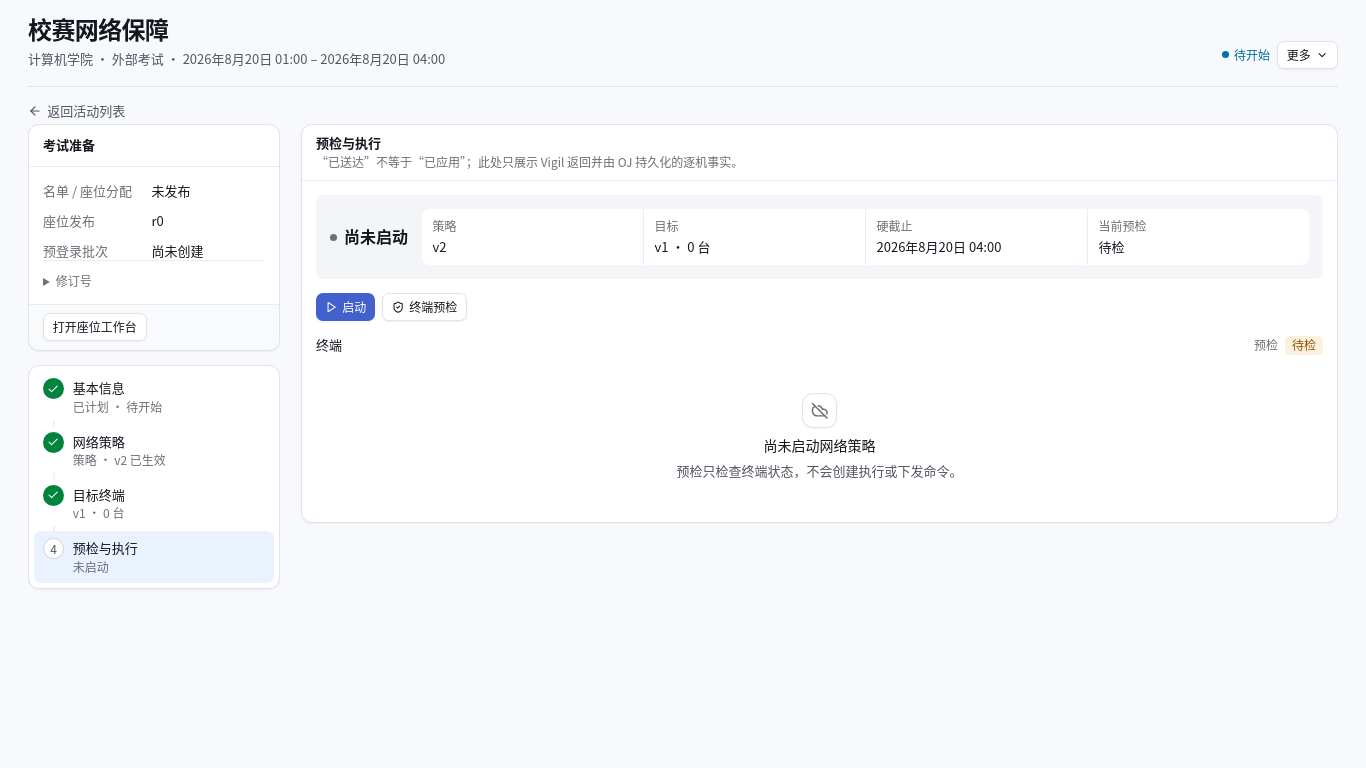
Test: exam event detail shell › 点击目标终端后地址变为 panel=targets
Click the button "目标终端 v1 · 0 台" at x=154, y=504, box [34,478,274,529]
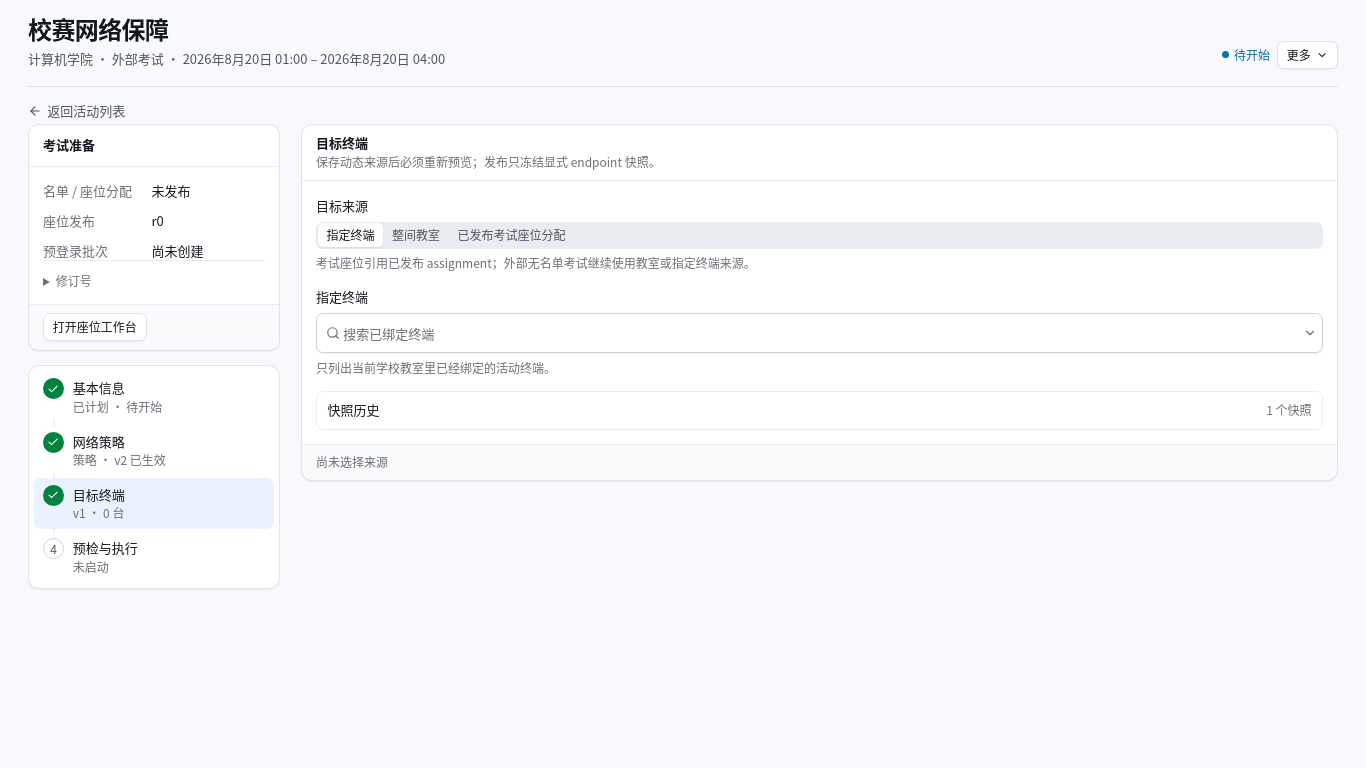
Expected: the heading "目标终端" is shown, [316,133,368,152]
